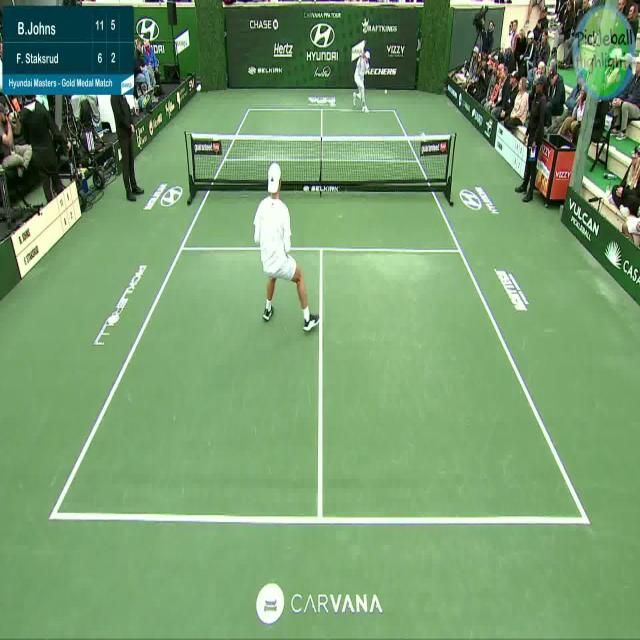ball: (384, 88, 388, 95)
